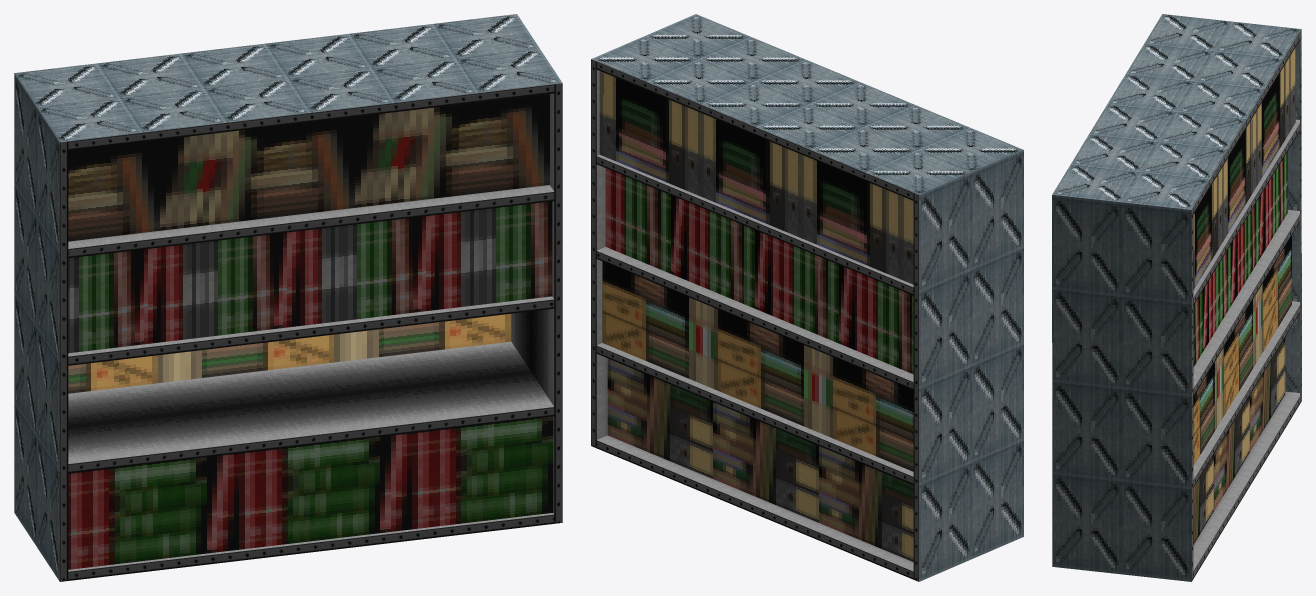
File: primary_059.glb
The picture shows the model from 3 angles, left to right: view 1: azimuth 30°, elevation 25°; view 2: azimuth 150°, elevation 25°; view 3: azimuth 270°, elevation 25°; orthographic projection. The views are drawn at different scales.
Visible parts, largest first — view 1: Object; view 2: Object; view 3: Object.
Boxes of the visible parts, bbox=[...] form: Object: bbox=[14, 14, 562, 581]; Object: bbox=[591, 14, 1023, 581]; Object: bbox=[1052, 14, 1301, 581].
Size of the model in its own units: 2.82 by 2.5 by 1.52.
16 materials, 16 textured.
